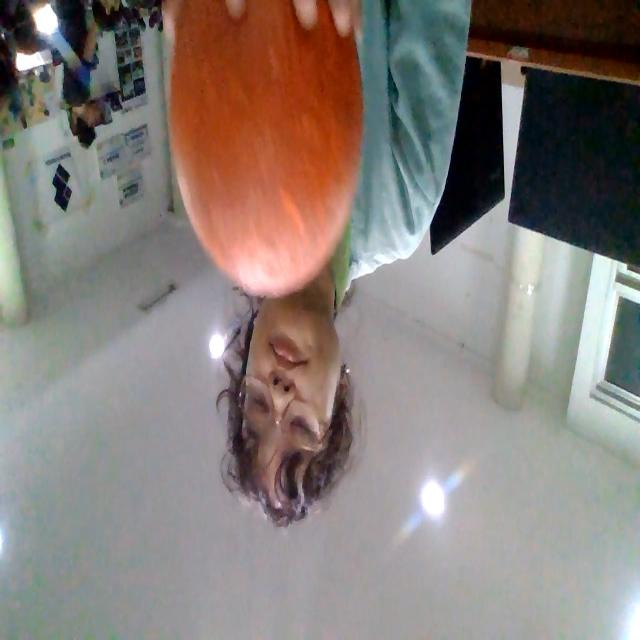ball: (165, 2, 365, 300)
